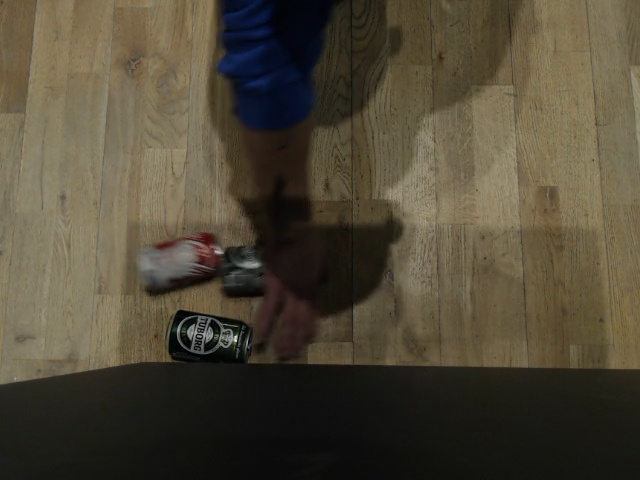cola: (130, 232, 223, 294)
